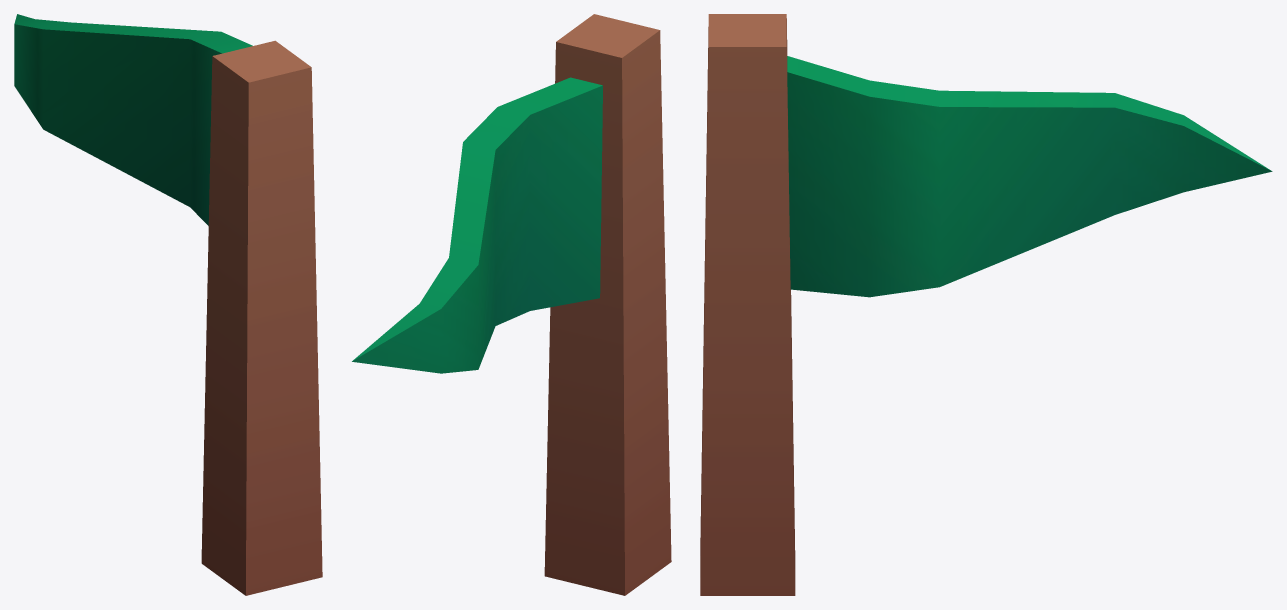
File: flag_green.glb
The picture shows the model from 3 angles, left to right: view 1: azimuth 30°, elevation 25°; view 2: azimuth 150°, elevation 25°; view 3: azimuth 270°, elevation 25°; orthographic projection. The views are drawn at different scales.
Parts seen in each view (by area): view 1: flag_green; view 2: flag_green; view 3: flag_green.
Boxes of the visible parts, bbox=[...] form: flag_green: bbox=[14, 14, 322, 595]; flag_green: bbox=[352, 14, 671, 595]; flag_green: bbox=[700, 14, 1272, 595].
Size of the model in its own units: 0.055 by 0.2775 by 0.264.
Materials: 1 (1 with a texture image).
